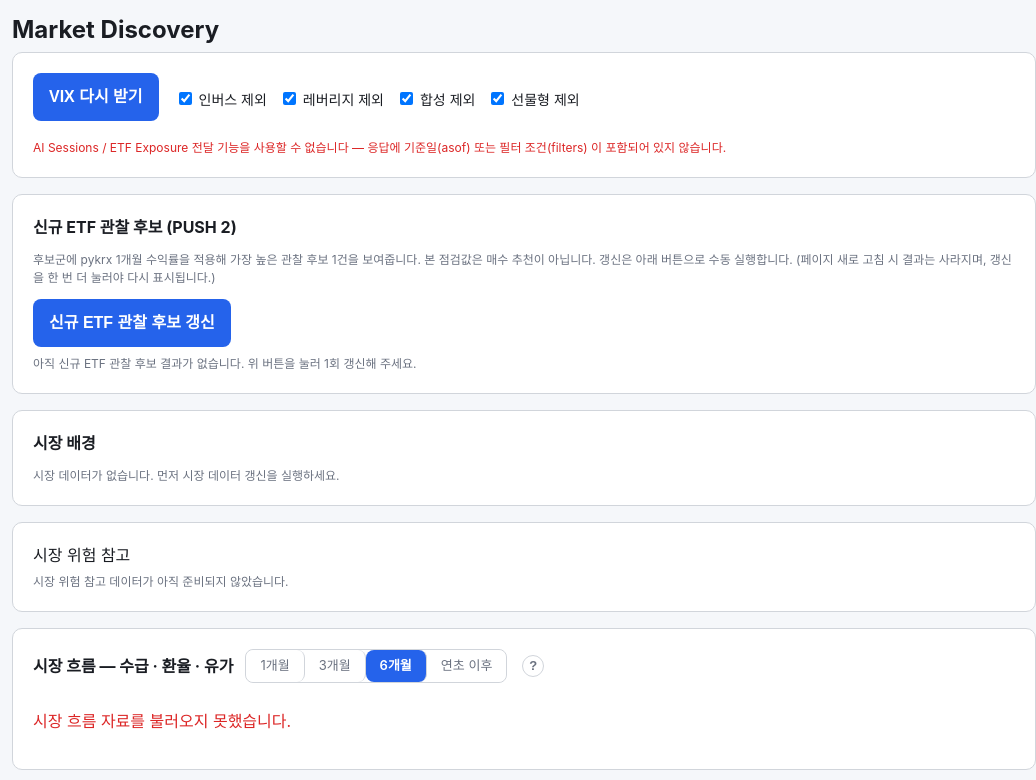
Test: 'VIX 다시 받기' 버튼 (POC5-12) › 다시 받기 결과 줄은 다음 전체 갱신을 시작하면 비운다
Step 1. Click the button "VIX 다시 받기" → (96,97), box [33,73,159,121]
Wait 4100 ms
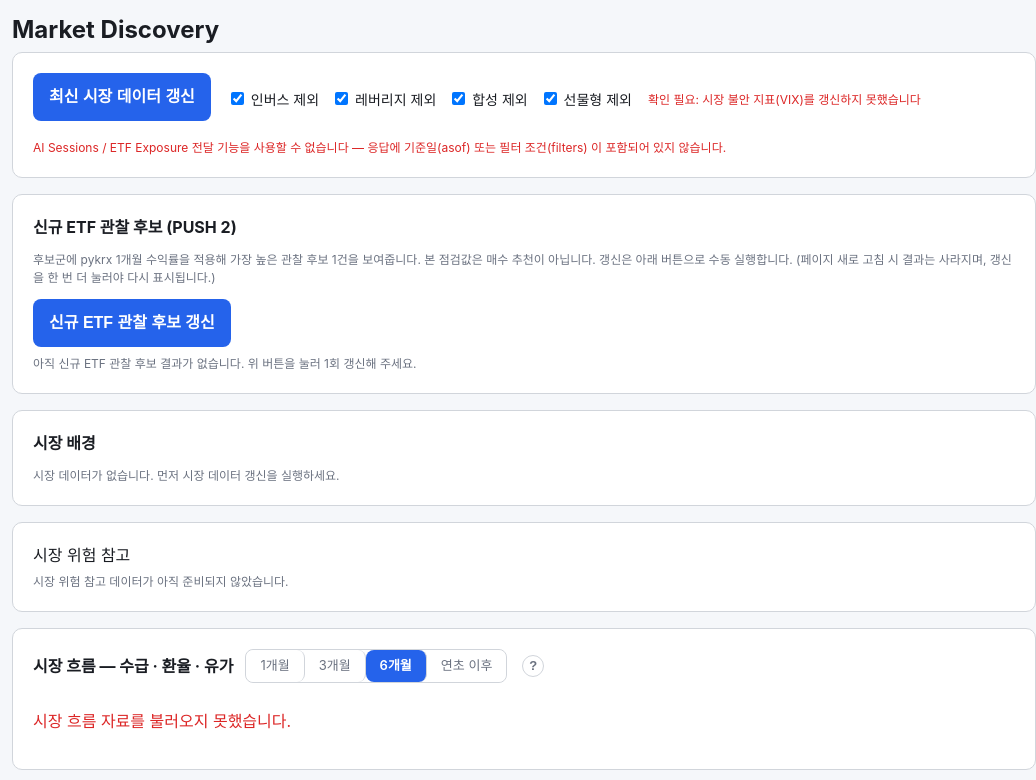
Result: the text "확인 필요: 시장 불안 지표(VIX)를 갱신하지 못했습니다" is shown at [648,91,921,109]
Step 2. Click the button "최신 시장 데이터 갱신" → (122,97), box [33,73,211,121]
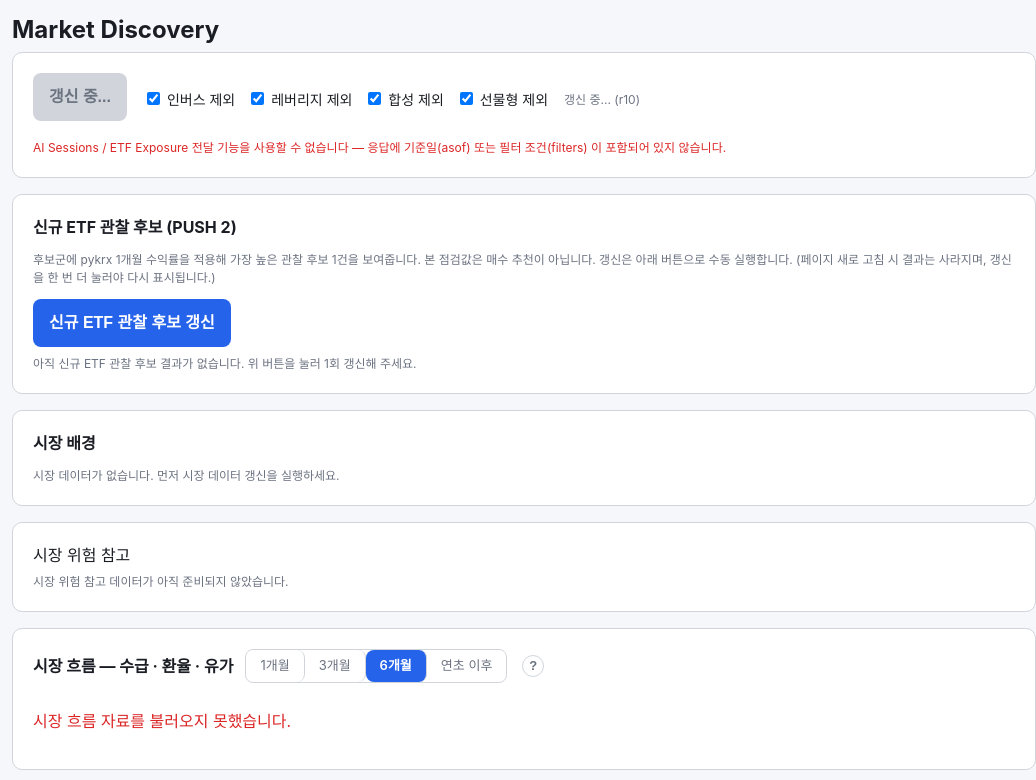
Result: the text "확인 필요: 시장 불안 지표(VIX)" is gone
Result: the text "갱신 중..." is shown at [33,73,127,121]
